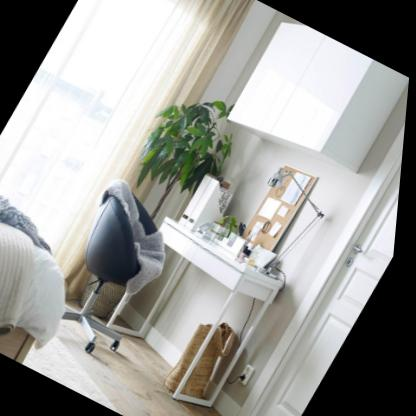Table: (88, 212, 300, 416)
